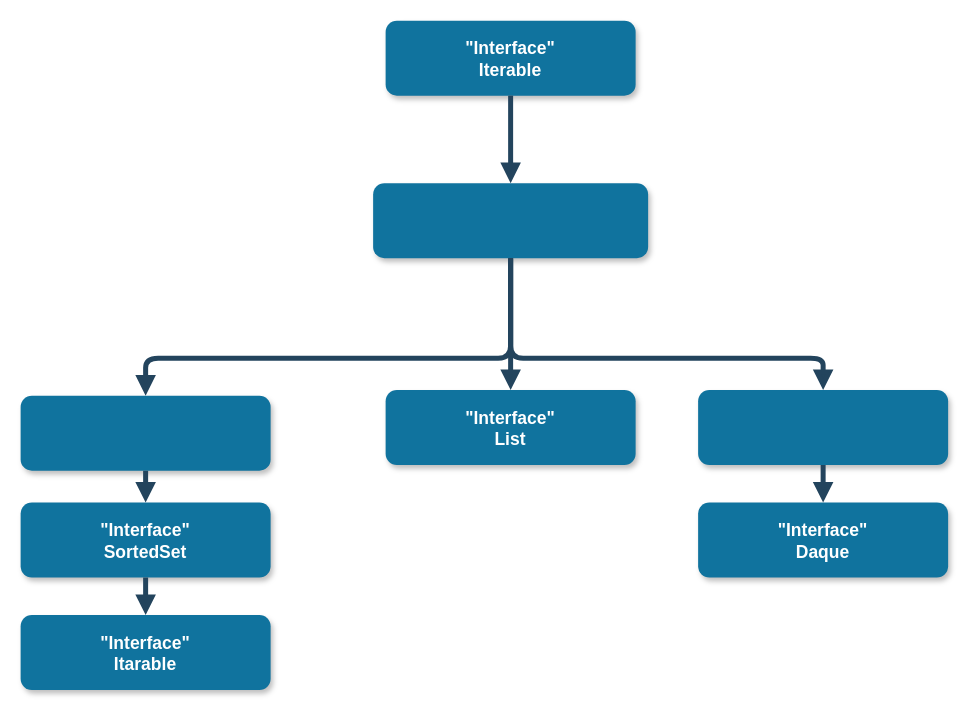
This 969x710 diagram has some shape labels left out. The centre of each missing label's shape, as x and y in pixels:
"Interface" Collection: point (511, 222)
"Interface" Queue: point (823, 428)
"Interface" Set: point (146, 434)
